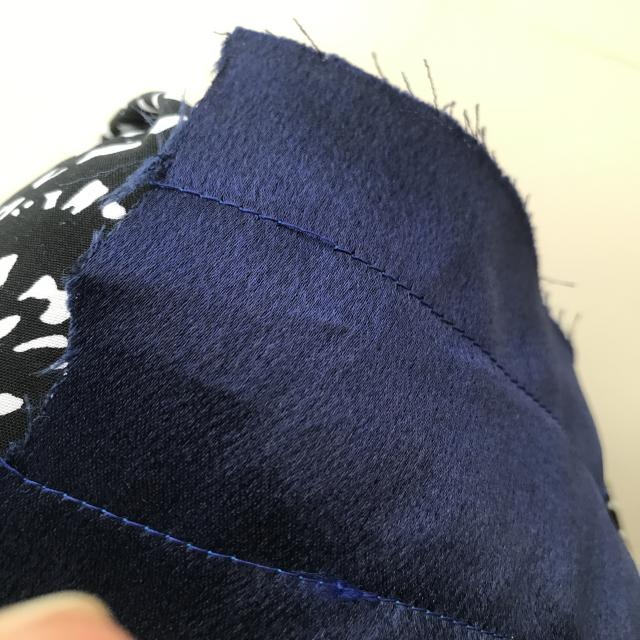skip: (276, 202, 366, 274)
